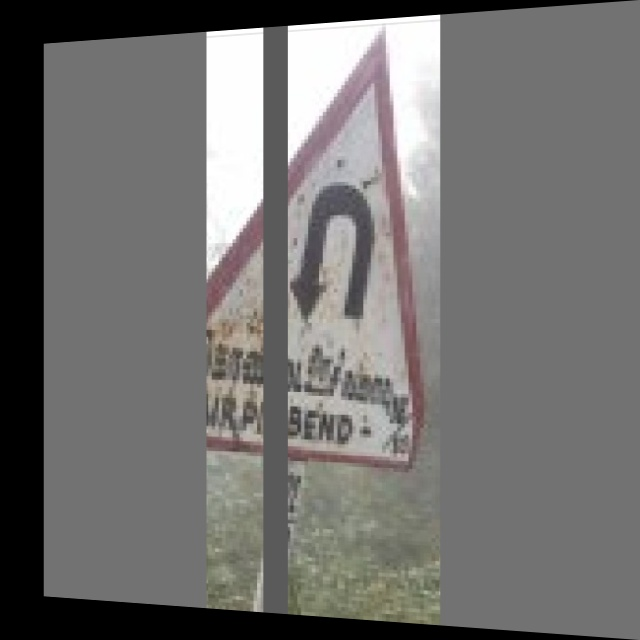Left_Hair_Pin_Bend: (263, 147, 420, 339)
